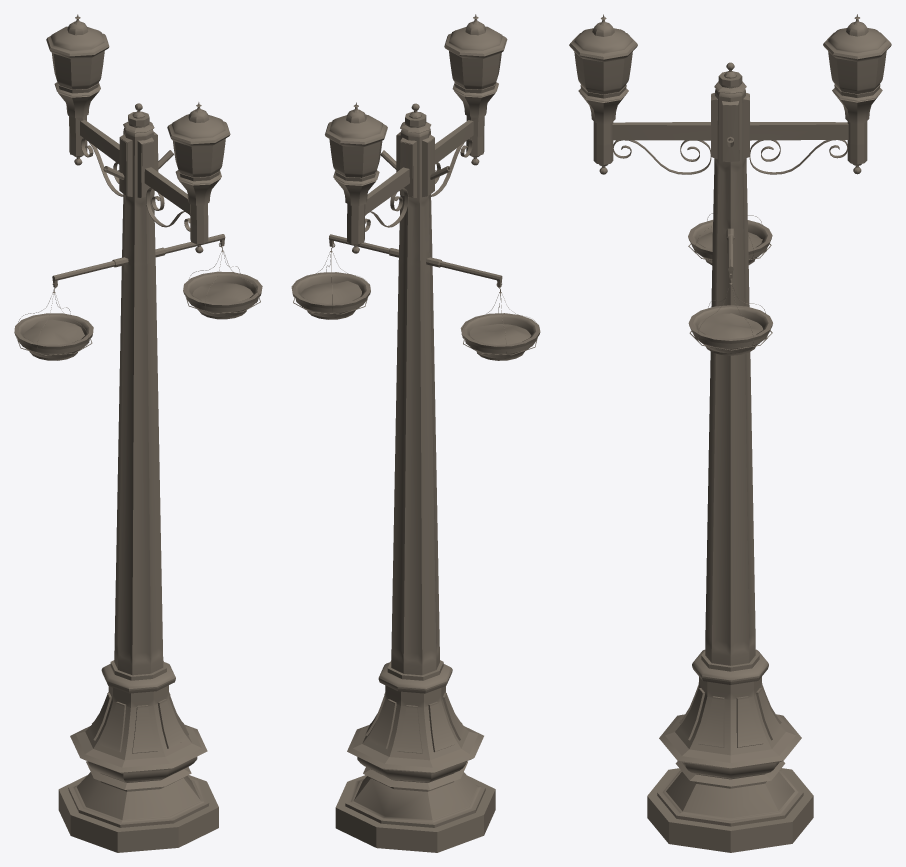
File: StreetlightExport.obj
The picture shows the model from 3 angles, left to right: view 1: azimuth 30°, elevation 25°; view 2: azimuth 150°, elevation 25°; view 3: azimuth 270°, elevation 25°; orthographic projection. The views are drawn at different scales.
Visible parts, largest first — view 1: Streetlight_HighRes1; view 2: Streetlight_HighRes1; view 3: Streetlight_HighRes1.
Boxes of the visible parts, bbox=[...] form: Streetlight_HighRes1: bbox=[14, 14, 262, 852]; Streetlight_HighRes1: bbox=[291, 14, 540, 852]; Streetlight_HighRes1: bbox=[569, 14, 891, 852].
Size of the model in its own units: 128 by 391 by 142.
